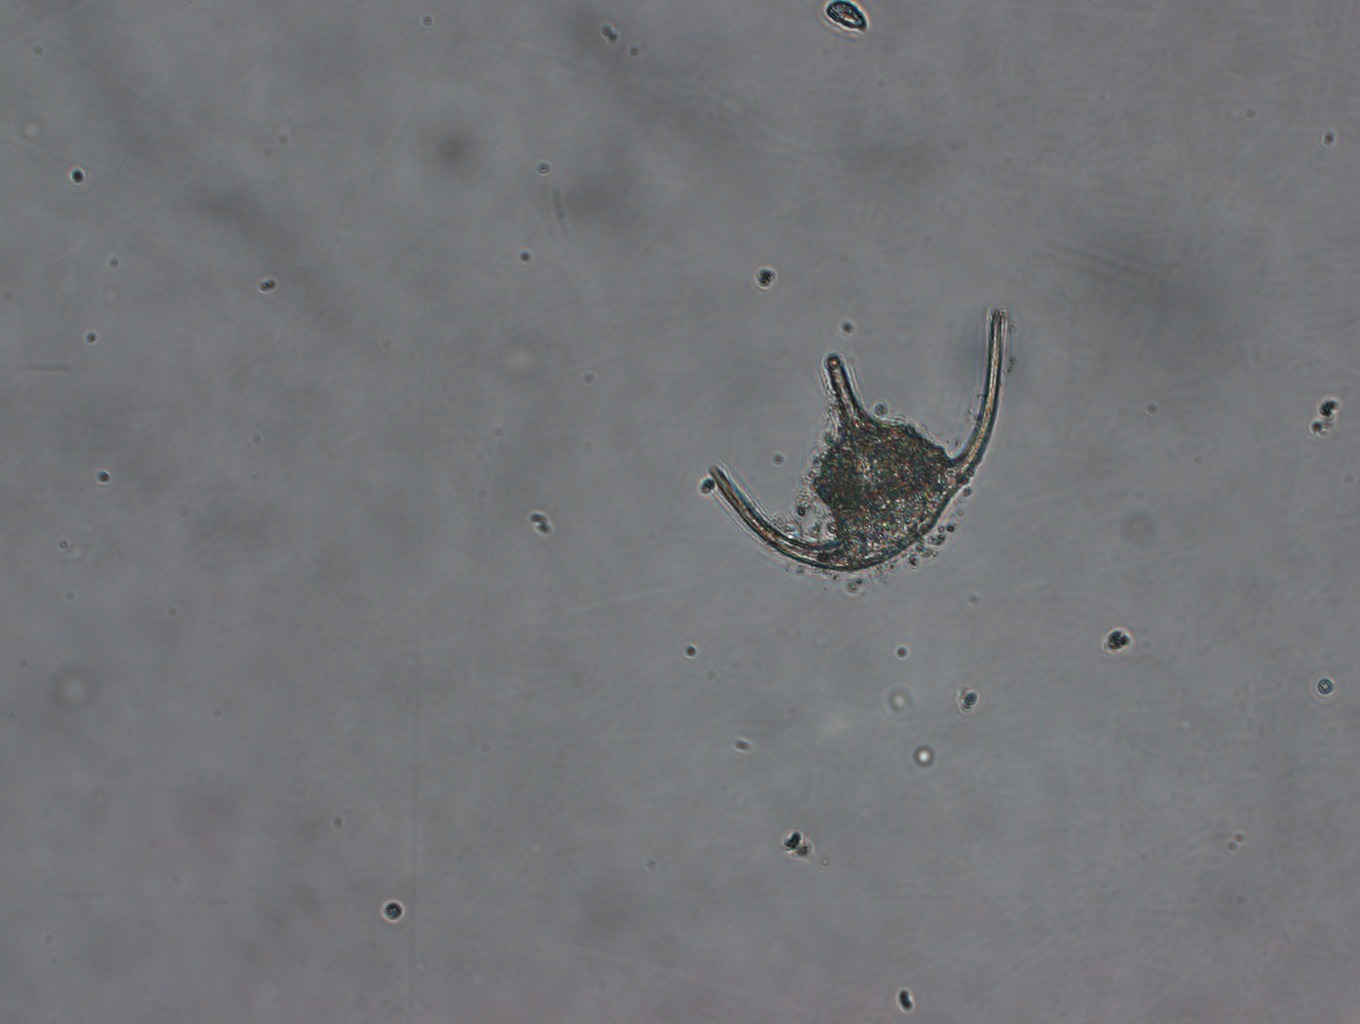ceratium tripos: (707, 308, 1002, 572)
